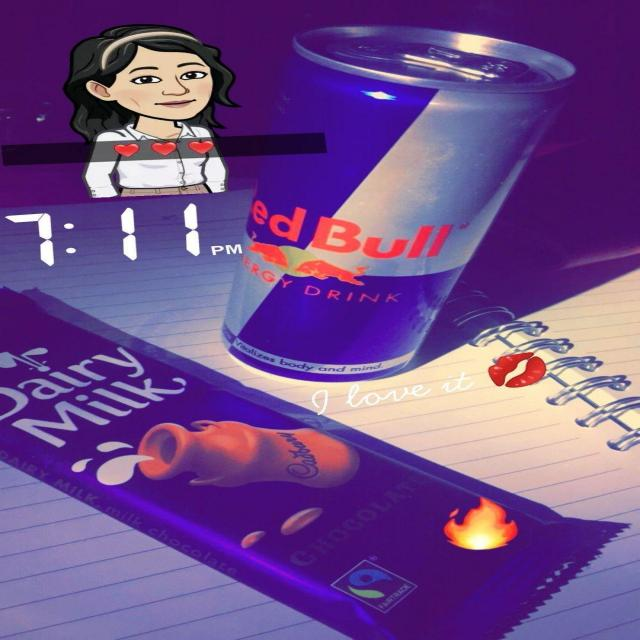tin can: (218, 25, 574, 383)
